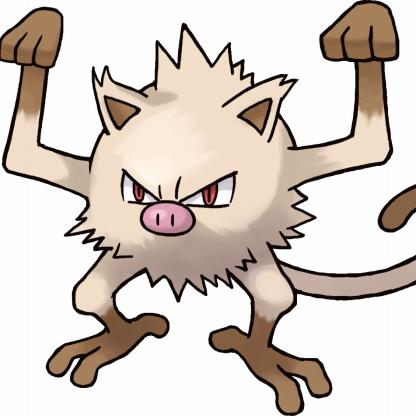Mankey: (1, 1, 416, 413)
